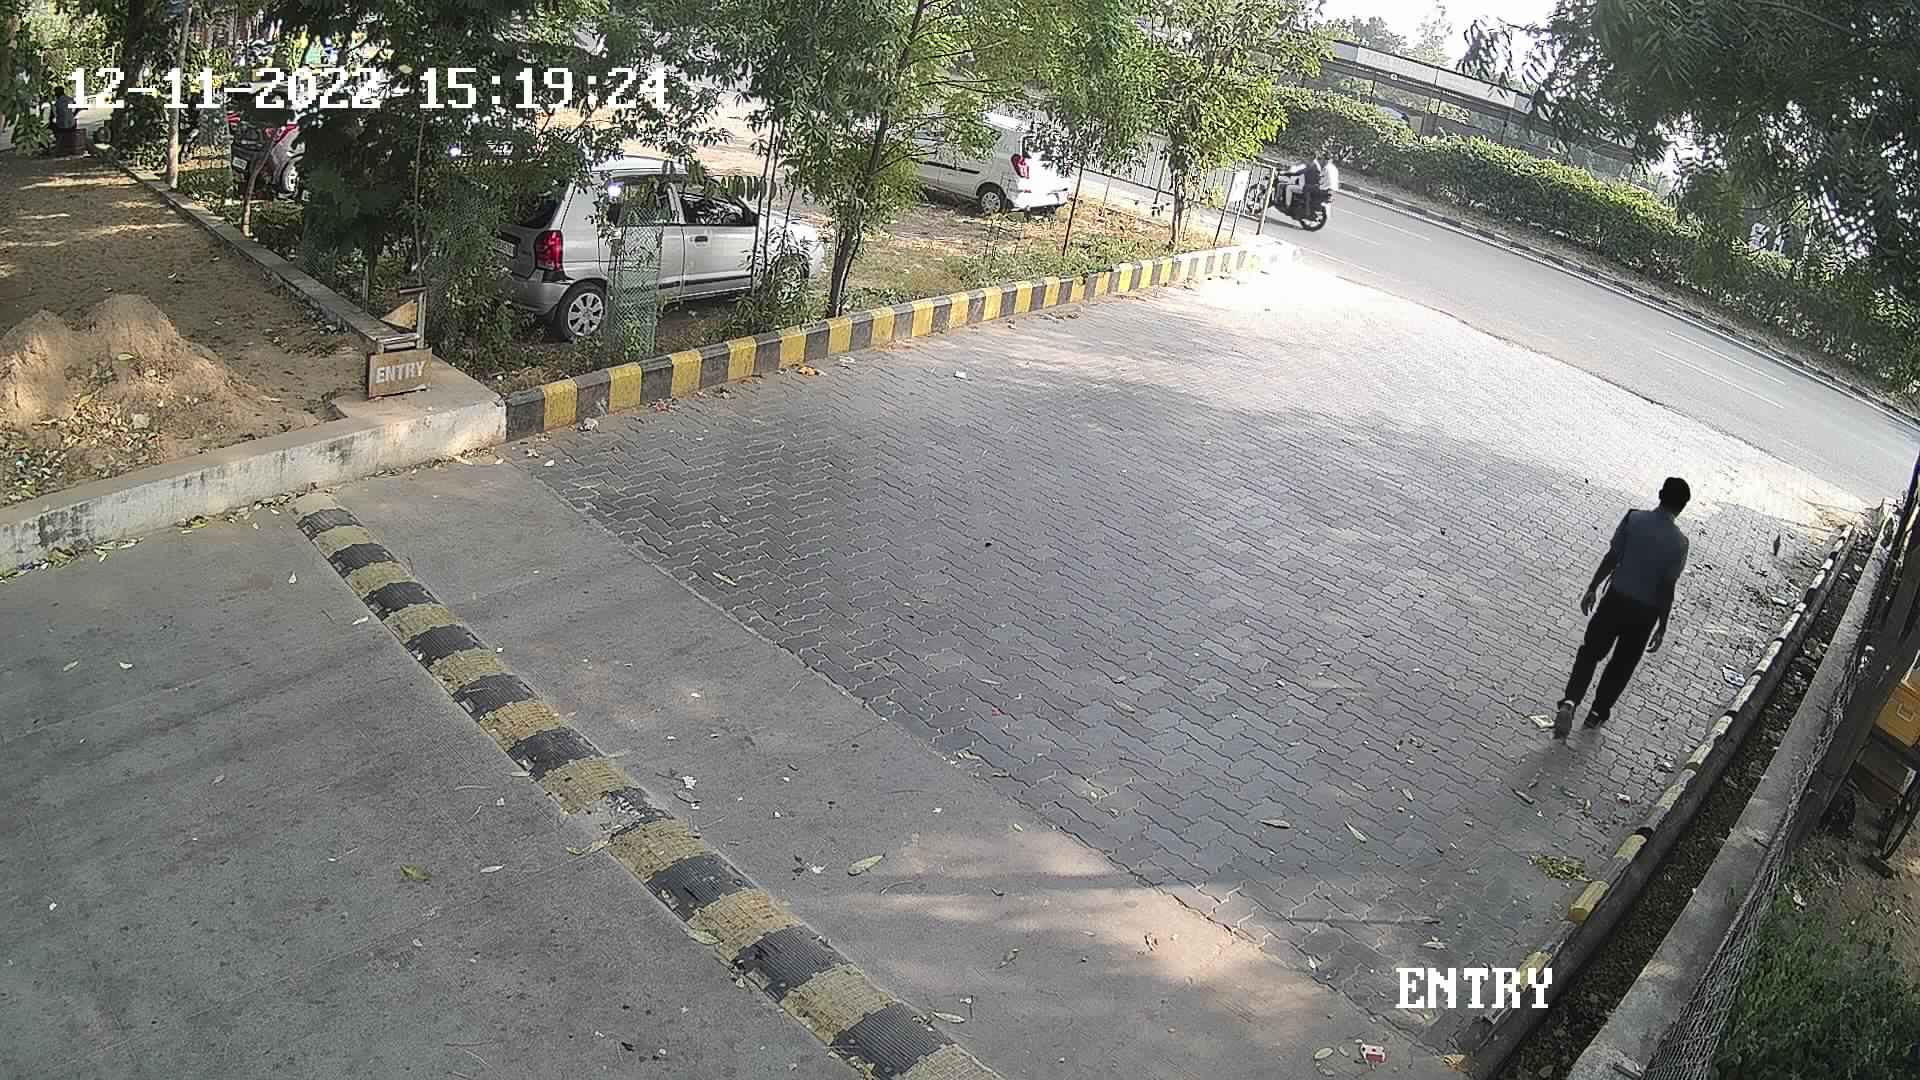Bike: (1234, 131, 1344, 233)
Car: (440, 133, 831, 345), (845, 102, 1075, 220)
